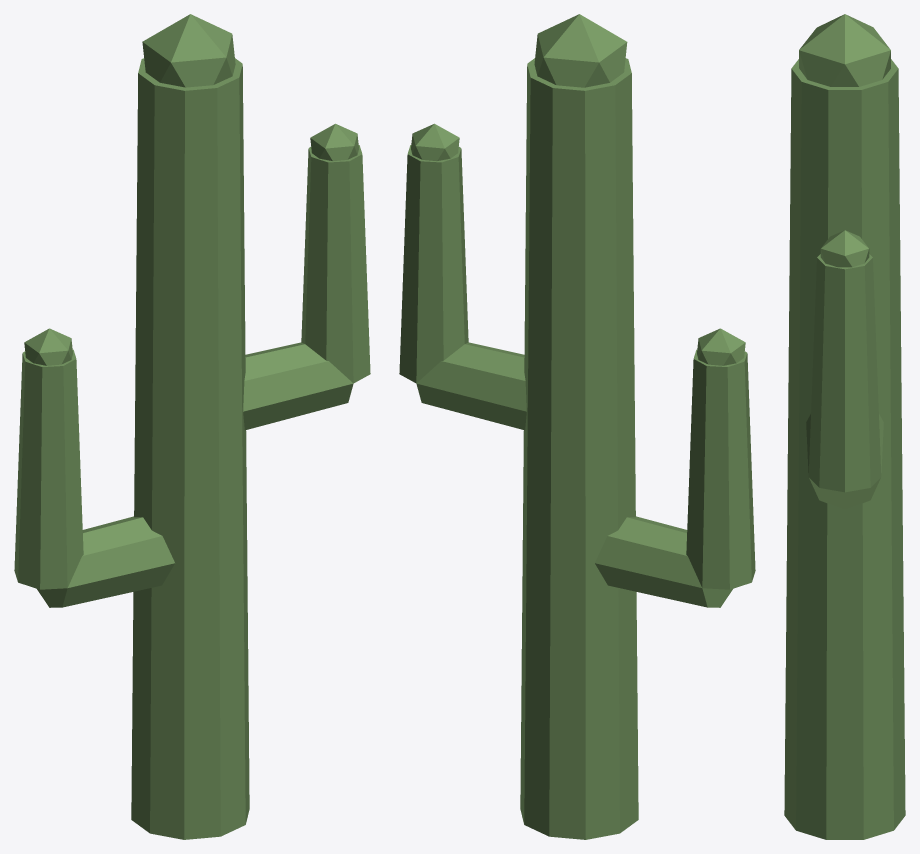
Rendered from arvore.glb.
3 views of the same model, side by side, from view 1: azimuth 30°, elevation 25°; view 2: azimuth 150°, elevation 25°; view 3: azimuth 270°, elevation 25° (orthographic).
Parts seen in each view (by area): view 1: deserto_arvore; view 2: deserto_arvore; view 3: deserto_arvore.
Boxes of the visible parts, <box> form: deserto_arvore: <box>14,14,370,839</box>; deserto_arvore: <box>399,14,755,839</box>; deserto_arvore: <box>784,14,905,839</box>.
Bounding box in the file's own units: 0.866 × 1.9 × 0.26.
